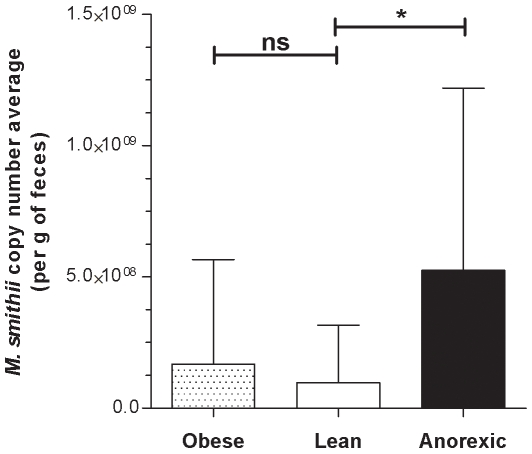OK_NoIssue: (56, 0, 532, 454)
